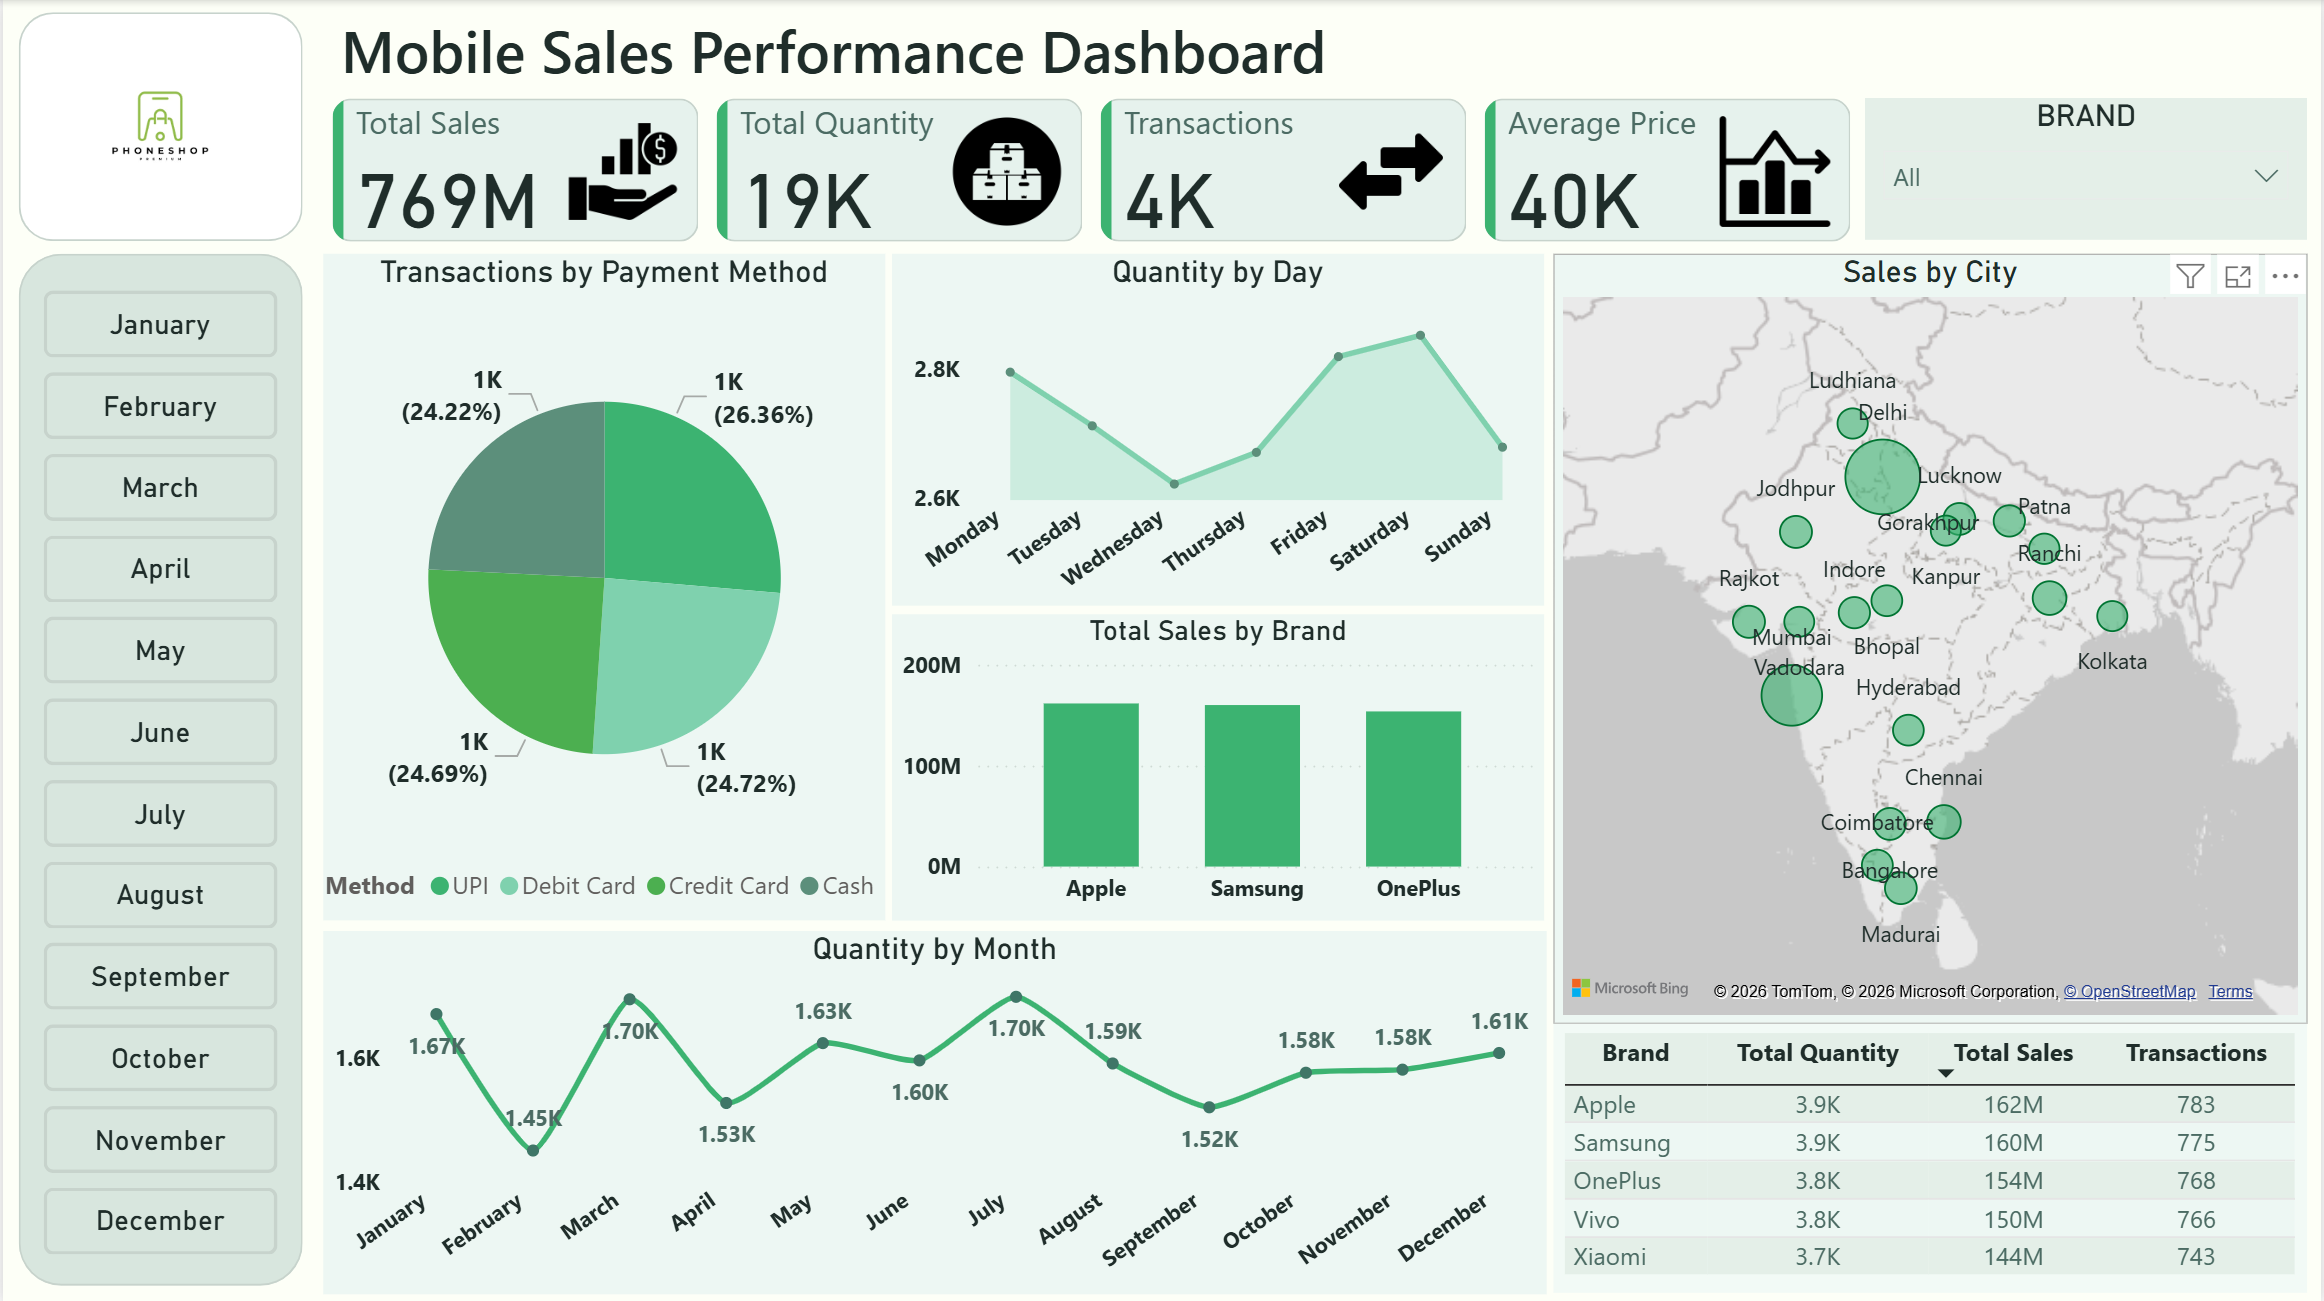

The page's visual inventory and layout, read from the dashboard file:
{"tool":"powerbi","page":{"name":"Page 1","canvas":[1280,720],"ordinal":0},"visuals":[{"type":"shape","box":[8.7,6.5,156.8,126.4],"z":0},{"type":"image","box":[25.1,18.5,123.1,102.4],"z":1000},{"type":"shape","box":[8.7,140.5,156.8,569.7],"z":2000},{"type":"advancedSlicerVisual","fields":{"Values":["Sales_Data.Date.Variation.Date Hierarchy.Month"]},"box":[17.4,157.9,139,545.7],"z":3000},{"type":"cardVisual","fields":{"Data":["Sales_Data.Total_Sales","Sales_Data.Total_Quantity","Sales_Data.Transactions","Sales_Data.Average_Price"]},"box":[176.4,49,851.8,89.3],"z":4000},{"type":"lineChart","title":"Quantity by Month","fields":{"Y":["Sales_Data.Total_Quantity"],"Category":["Sales_Data.Date.Variation.Date Hierarchy.Month","Sales_Data.Date.Variation.Date Hierarchy.Day"]},"box":[176.4,514.1,675.3,200.4],"z":5000},{"type":"clusteredColumnChart","fields":{"Category":["Sales_Data.Brand"],"Y":["Sales_Data.Total_Sales"]},"box":[491,339.4,360,169.2],"z":6000},{"type":"map","title":"Sales by City","fields":{"Category":["Sales_Data.City"],"Size":["Sales_Data.Total_Sales"]},"box":[856,140.5,416.1,424.8],"z":7000},{"type":"areaChart","title":"Quantity by Day","fields":{"Category":["Sales_Data.Day Name"],"Y":["Sales_Data.Total_Quantity"]},"box":[491.2,140.5,360,194],"z":8000},{"type":"tableEx","fields":{"Values":["Sales_Data.Brand","Sales_Data.Total_Quantity","Sales_Data.Total_Sales","Sales_Data.Transactions"]},"box":[856,565.4,415.7,148.6],"z":9000},{"type":"pieChart","fields":{"Category":["Sales_Data.Payment Method"],"Y":["Sales_Data.Transactions"]},"box":[176.4,140.4,310,368.2],"z":10000},{"type":"slicer","title":"BRAND","fields":{"Values":["Sales_Data.Brand"]},"box":[1028.1,54.5,244,78.4],"z":11000},{"type":"textbox","box":[181.9,1.1,595.8,57.7],"z":12000}]}

Visuals, with their boxes in screenshot pixels (x1, y1, x2, y2), scaled from the page's 1280x720 canvas onto the 2324x1301 screenshot:
shape: box(16, 12, 300, 240)
image: box(46, 33, 269, 218)
shape: box(16, 254, 300, 1283)
advancedSlicerVisual - Sales_Data.Date.Variation.Date Hierarchy.Month: box(32, 285, 284, 1271)
cardVisual - Sales_Data.Total_Sales x Sales_Data.Total_Quantity: box(320, 89, 1867, 250)
"Quantity by Month" lineChart: box(320, 929, 1546, 1291)
clusteredColumnChart - Sales_Data.Brand x Sales_Data.Total_Sales: box(891, 613, 1545, 919)
"Sales by City" map: box(1554, 254, 2310, 1021)
"Quantity by Day" areaChart: box(892, 254, 1545, 604)
tableEx - Sales_Data.Brand x Sales_Data.Total_Quantity: box(1554, 1022, 2309, 1290)
pieChart - Sales_Data.Payment Method x Sales_Data.Transactions: box(320, 254, 883, 919)
"BRAND" slicer: box(1867, 98, 2310, 240)
textbox: box(330, 2, 1412, 106)
